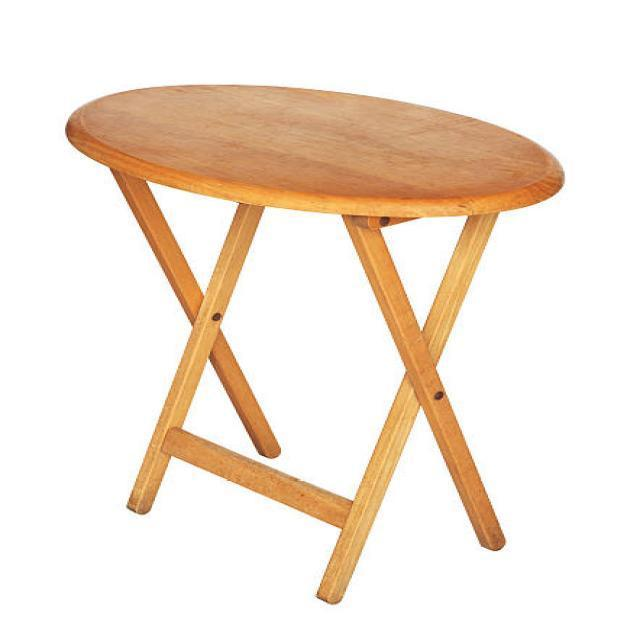table: (63, 82, 564, 604)
